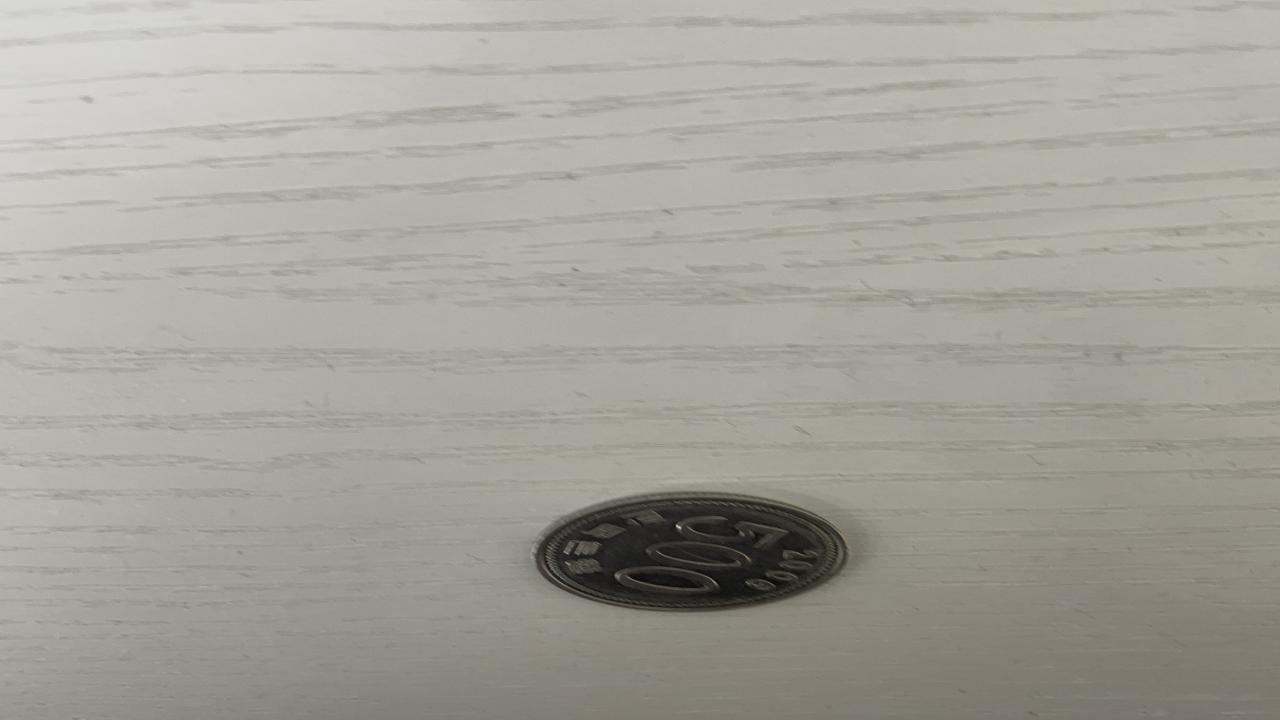coin: (530, 492, 858, 612)
